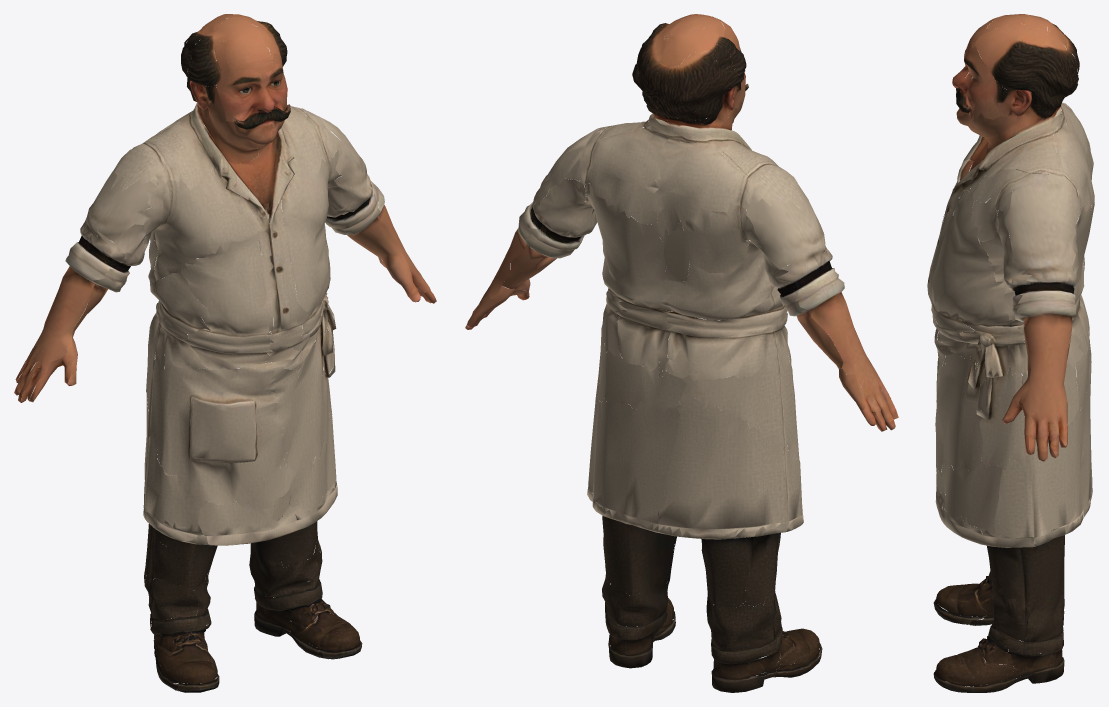
File: bartender.glb
The picture shows the model from 3 angles, left to right: view 1: azimuth 30°, elevation 25°; view 2: azimuth 150°, elevation 25°; view 3: azimuth 270°, elevation 25°; orthographic projection. The views are drawn at different scales.
Parts seen in each view (by area): view 1: tripo_node_d6ddb283-94c7-4e12-ad6e-0a171cf9b04d; view 2: tripo_node_d6ddb283-94c7-4e12-ad6e-0a171cf9b04d; view 3: tripo_node_d6ddb283-94c7-4e12-ad6e-0a171cf9b04d.
Part boxes in pixels (box(x1,y1,x2,y2)): tripo_node_d6ddb283-94c7-4e12-ad6e-0a171cf9b04d: box(14, 14, 436, 692); tripo_node_d6ddb283-94c7-4e12-ad6e-0a171cf9b04d: box(465, 14, 898, 692); tripo_node_d6ddb283-94c7-4e12-ad6e-0a171cf9b04d: box(927, 14, 1094, 692).
Bounding box in the file's own units: 0.6758 × 0.9789 × 0.2352.
1 material, 1 textured.
